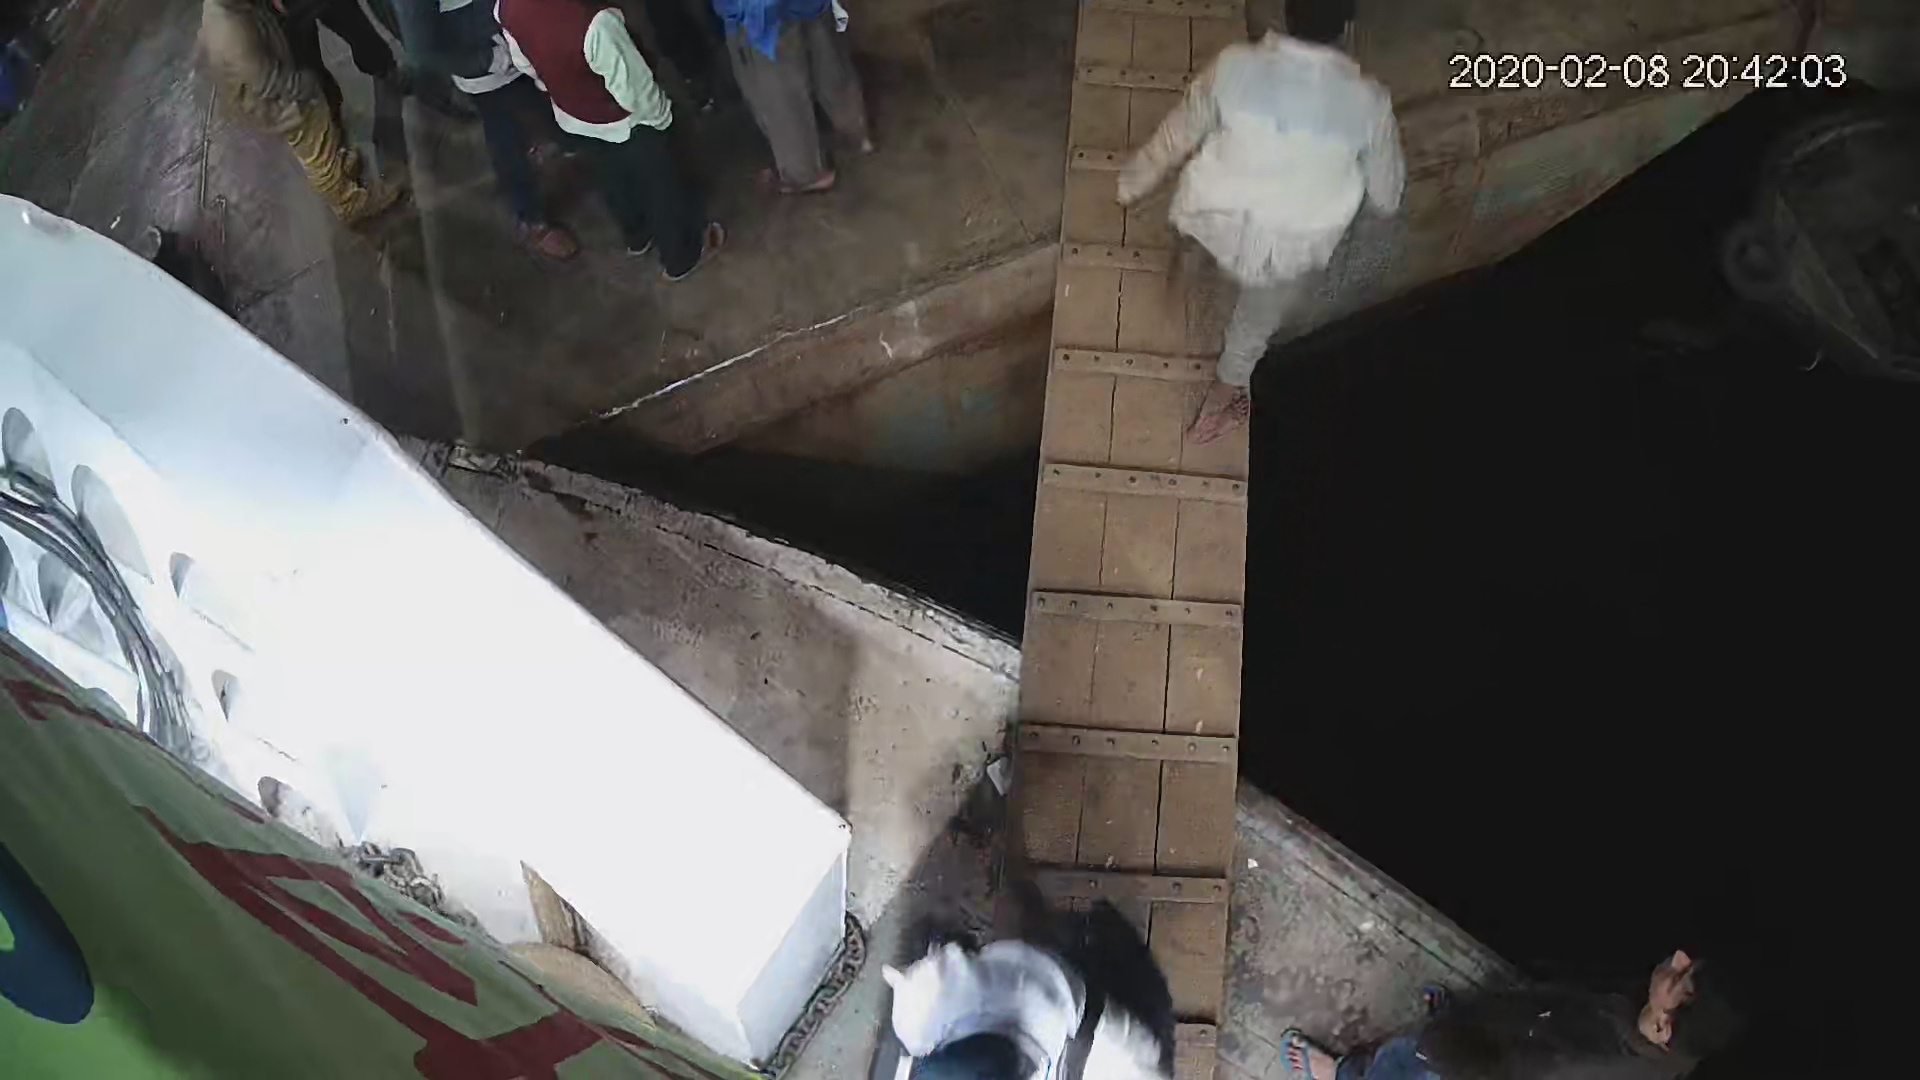person: (1115, 11, 1410, 441), (1290, 926, 1761, 1080), (504, 1, 729, 291), (192, 3, 408, 230)
